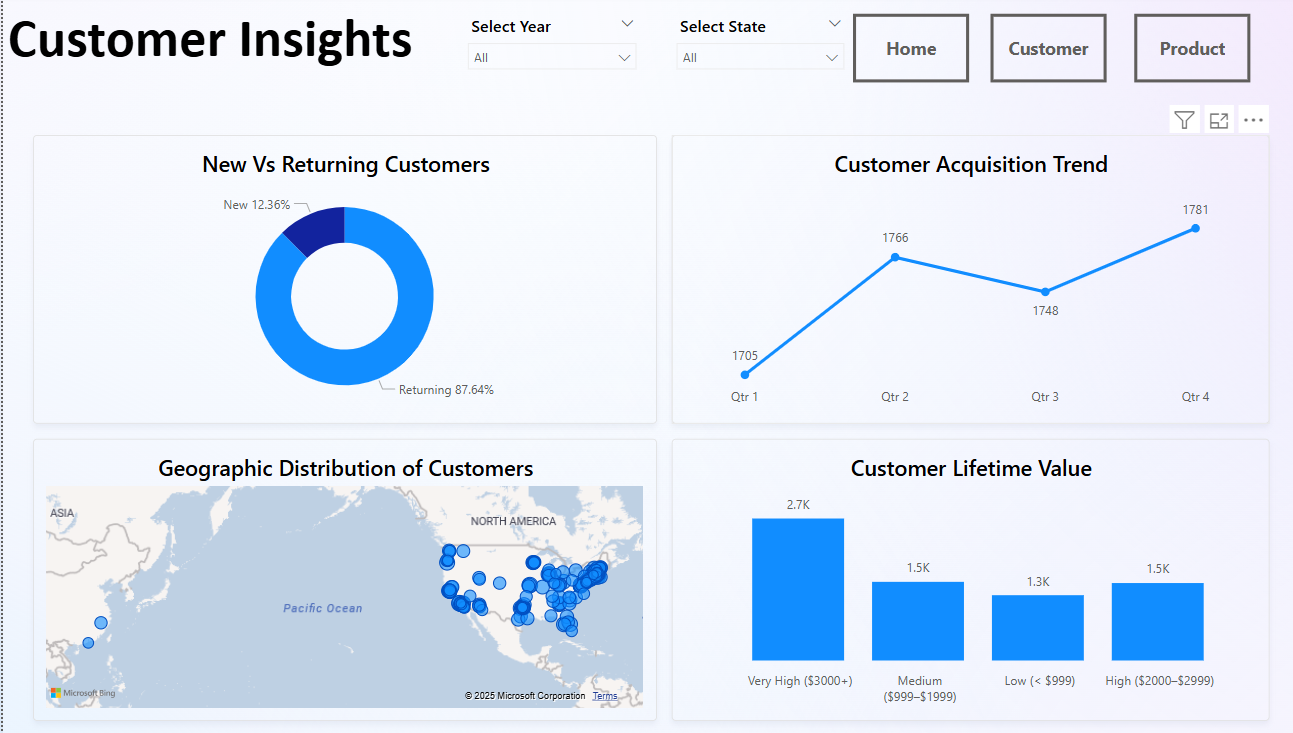

The page's visual inventory and layout, read from the dashboard file:
{"tool":"powerbi","page":{"name":"Page 2","canvas":[1280,720],"ordinal":1},"visuals":[{"type":"textbox","box":[0,0,516,96.1],"z":0},{"type":"actionButton","box":[831.5,13.5,113.7,67.3],"z":0,"group":"g1"},{"type":"actionButton","box":[966,13.5,113.7,67.3],"z":1000,"group":"g1"},{"type":"donutChart","title":"New Vs Returning Customers","fields":{"Category":["customers3.reutrnflag"],"Y":["CountNonNull(customers3.reutrnflag)"]},"box":[29.3,132.1,610.2,282.5],"z":1000},{"type":"actionButton","box":[1106.6,13.5,113.7,67.3],"z":2000,"group":"g1"},{"type":"lineChart","title":"Customer Acquisition Trend","fields":{"Category":["customers3.signup_date.Variation.Date Hierarchy.Quarter"],"Y":["CountNonNull(customers3.customer_id)"]},"box":[654.2,132.1,584.5,282.5],"z":2000},{"type":"columnChart","title":"Customer Lifetime Value","fields":{"Category":["customers3.CLV_Bucket"],"Y":["CountNonNull(customers3.CLV_Bucket)"]},"box":[654.2,429.2,584.5,276.4],"z":3000},{"type":"map","title":"Geographic Distribution of Customers","fields":{"Category":["customers3.address"],"Size":["CountNonNull(customers3.customer_id)"]},"box":[29.3,429.2,610.2,276.4],"z":3001},{"type":"slicer","fields":{"Values":["orders1.order_date.Variation.Date Hierarchy.Year"]},"box":[450,13.5,174.9,67.3],"z":3002},{"type":"slicer","title":"Select State","fields":{"Values":["customers3.States"]},"box":[654.2,13.5,173.6,67.3],"z":3003},{"type":"group","id":"g1","title":"Group 1","box":[831.5,13.5,388.9,67.3],"z":3004}]}

Visuals, with their boxes in screenshot pixels (x1, y1, x2, y2), scaled from the page's 1280x720 canvas onto the 1293x733 screenshot:
textbox: box=[0, 0, 521, 98]
actionButton: box=[840, 14, 955, 82]
actionButton: box=[976, 14, 1091, 82]
"New Vs Returning Customers" donutChart: box=[30, 134, 646, 422]
actionButton: box=[1118, 14, 1233, 82]
"Customer Acquisition Trend" lineChart: box=[661, 134, 1251, 422]
"Customer Lifetime Value" columnChart: box=[661, 437, 1251, 718]
"Geographic Distribution of Customers" map: box=[30, 437, 646, 718]
slicer - orders1.order_date.Variation.Date Hierarchy.Year: box=[455, 14, 631, 82]
"Select State" slicer: box=[661, 14, 836, 82]
"Group 1" group: box=[840, 14, 1233, 82]
